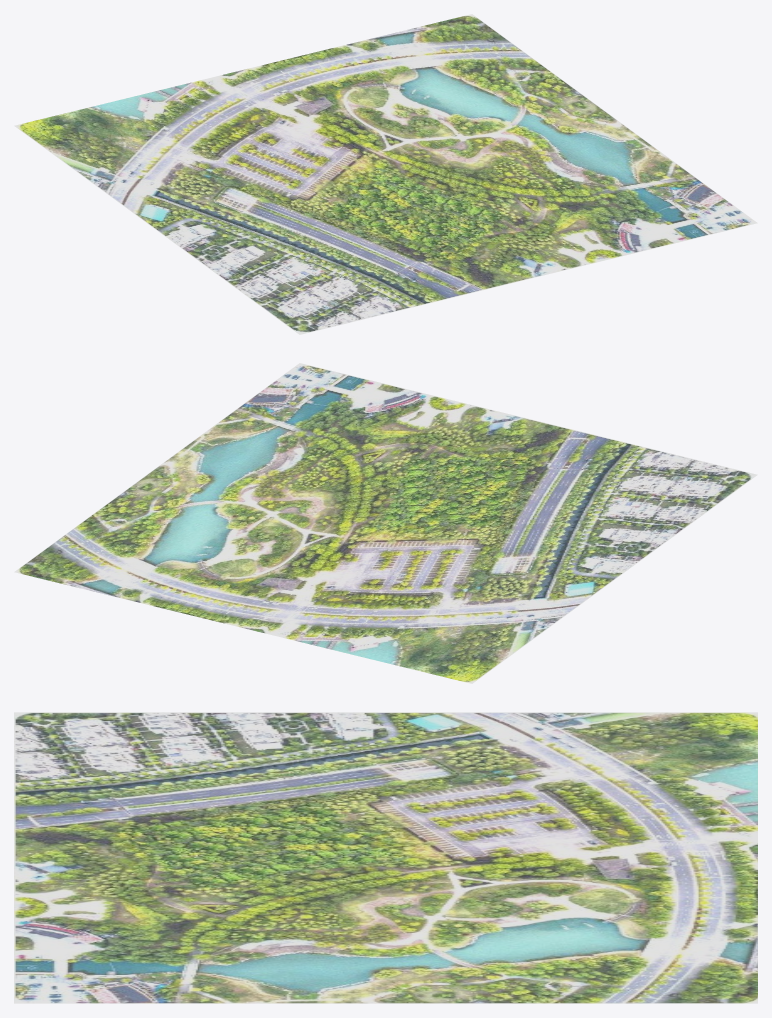
3 views of the same model, one above another, from view 1: azimuth 30°, elevation 25°; view 2: azimuth 150°, elevation 25°; view 3: azimuth 270°, elevation 25° (orthographic). The views are drawn at different scales.
Parts seen in each view (by area): view 1: Plane; view 2: Plane; view 3: Plane.
Boxes of the visible parts, x1,y1,x2,y2 form: Plane: (14, 14, 757, 334); Plane: (14, 363, 757, 683); Plane: (14, 712, 757, 1003).
Size of the model in its own units: 3.56 by 0 by 3.84.
1 material, 1 textured.
